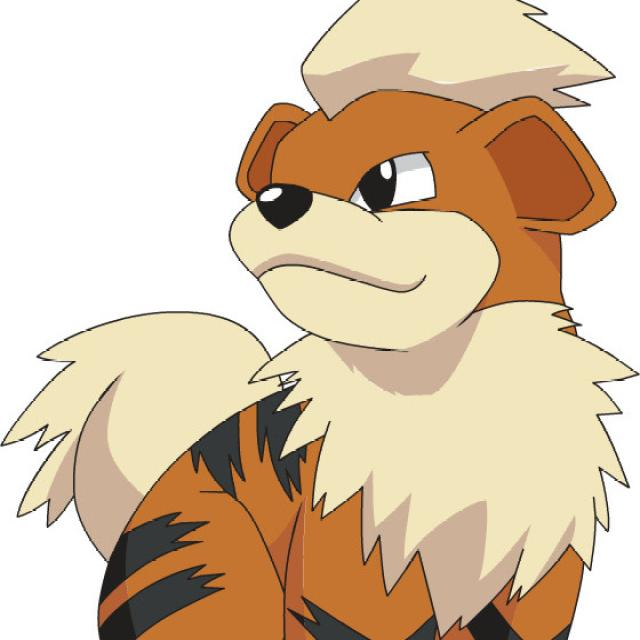Growlithe: (0, 2, 640, 640)
